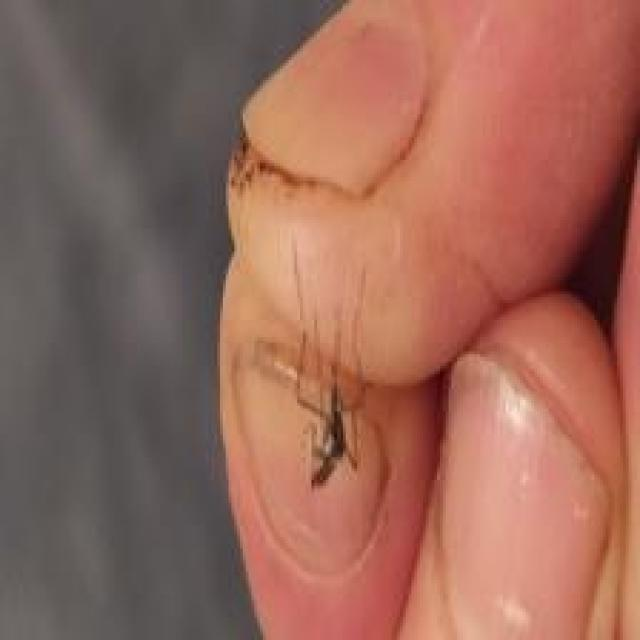Aedes albopictus: (250, 328, 367, 488)
